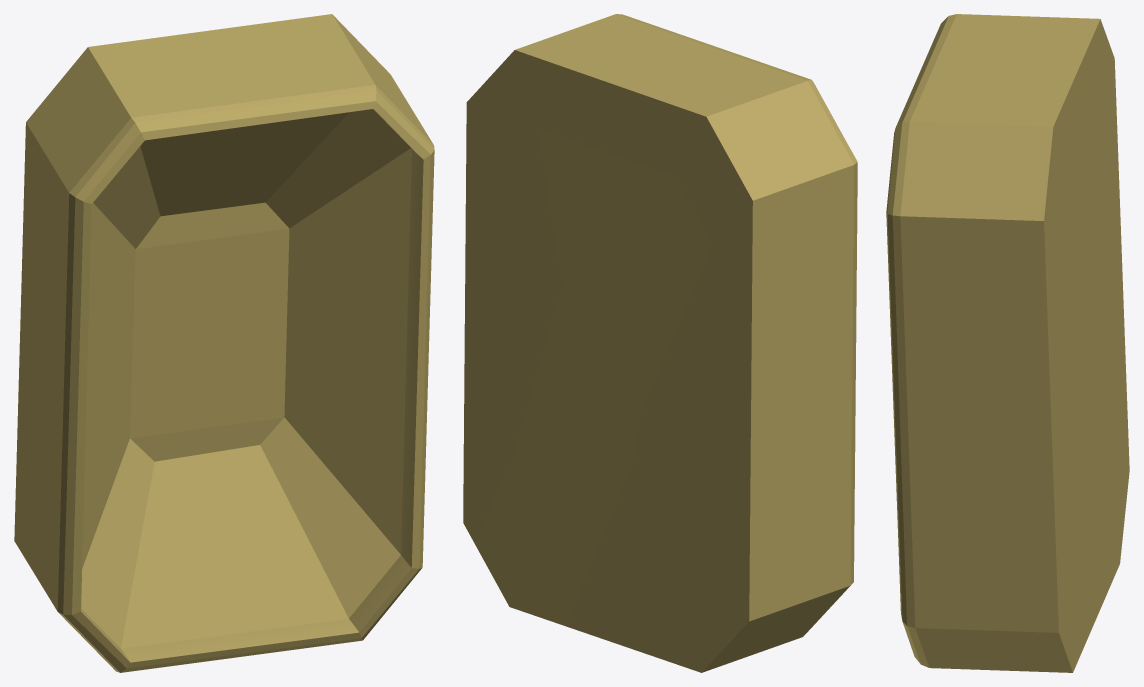
File: TL1_8shapes_Emerald_Classic_Metal.001 3.glb
3 renders of one model, left to right at view 1: azimuth 30°, elevation 25°; view 2: azimuth 150°, elevation 25°; view 3: azimuth 270°, elevation 25°, orthographic. The views are drawn at different scales.
Parts seen in each view (by area): view 1: TL1_8shapes_Emerald_Classic_Metal.001; view 2: TL1_8shapes_Emerald_Classic_Metal.001; view 3: TL1_8shapes_Emerald_Classic_Metal.001.
Boxes of the visible parts, x1,y1,x2,y2 form: TL1_8shapes_Emerald_Classic_Metal.001: (14,14,434,672); TL1_8shapes_Emerald_Classic_Metal.001: (463,14,857,672); TL1_8shapes_Emerald_Classic_Metal.001: (886,14,1129,672).
Size of the model in its own units: 0.4917 by 0.743 by 0.2922.
